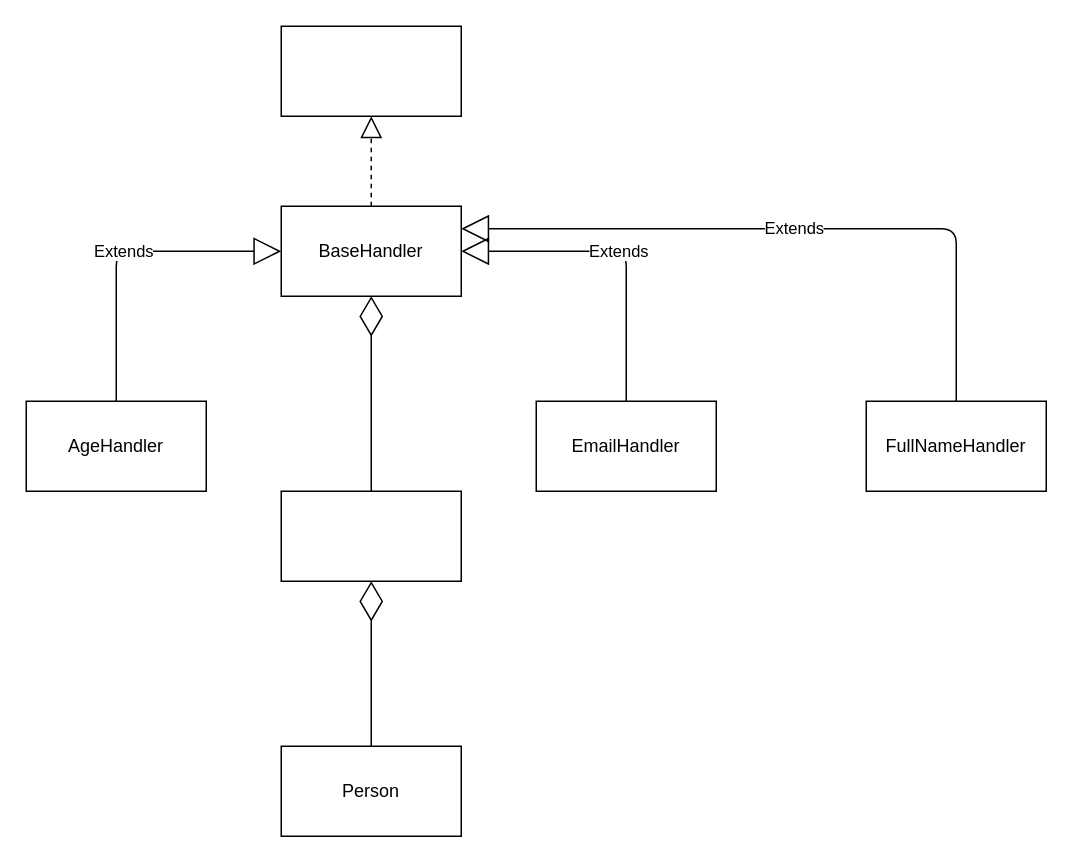
Image size: 1073x863. Some labels were removed from this diagram. Here are the shapes that lost their labels. From the top down, the centre of each, then its label:
the point at 370,70: IHandler
the point at 370,535: Request
